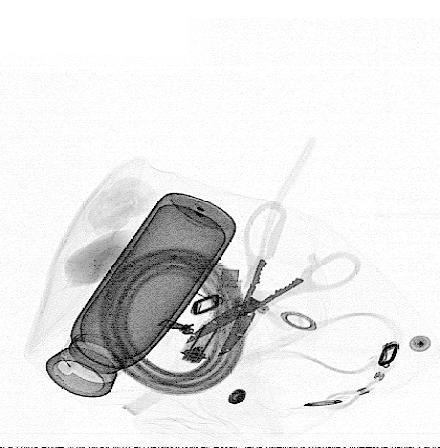Scissors: (185, 198, 360, 357)
